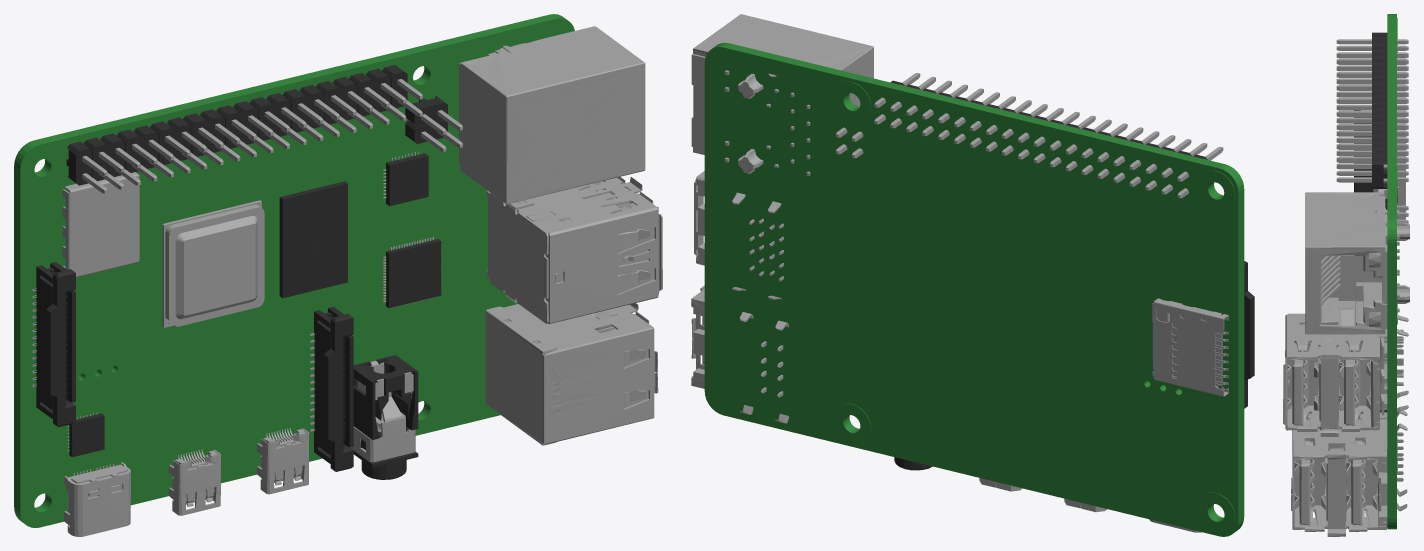
The model's file is raspi.glb.
3 renders of one model, left to right at view 1: azimuth 30°, elevation 25°; view 2: azimuth 150°, elevation 25°; view 3: azimuth 270°, elevation 25°, orthographic. The views are drawn at different scales.
Visible parts, largest first — view 1: PCB, Ethernet Port, USB Port 1, USB Port 2, Pin Header, CPU, 3.5mm Jack, RAM, WiFi Shield, CSI Port, DSI Port, USB Controller (+5 smaller); view 2: PCB, Ethernet Port, Pin Header, SD Slot, USB Port 2, USB Port 1, DSI Port; view 3: Ethernet Port, USB Port 1, USB Port 2, Pin Header, PCB, DSI Port, SD Slot, PoE Header.
Boxes of the visible parts, left/top/right/bottom form: PCB: left=14, top=14, right=574, bottom=527; Ethernet Port: left=459, top=26, right=645, bottom=204; USB Port 1: left=486, top=177, right=662, bottom=324; USB Port 2: left=485, top=303, right=658, bottom=445; Pin Header: left=66, top=65, right=422, bottom=193; CPU: left=162, top=200, right=264, bottom=327; 3.5mm Jack: left=351, top=355, right=418, bottom=479; RAM: left=279, top=181, right=347, bottom=298; WiFi Shield: left=62, top=172, right=139, bottom=277; CSI Port: left=309, top=306, right=353, bottom=471; DSI Port: left=32, top=262, right=75, bottom=427; USB Controller: left=383, top=151, right=441, bottom=308; PCB: left=704, top=42, right=1244, bottom=536; Ethernet Port: left=691, top=14, right=873, bottom=175; Pin Header: left=874, top=73, right=1223, bottom=198; SD Slot: left=1152, top=298, right=1228, bottom=396; USB Port 2: left=691, top=285, right=788, bottom=423; USB Port 1: left=694, top=171, right=783, bottom=299; DSI Port: left=1244, top=261, right=1254, bottom=408; Ethernet Port: left=1305, top=192, right=1409, bottom=334; USB Port 1: left=1283, top=313, right=1408, bottom=436; USB Port 2: left=1291, top=410, right=1407, bottom=536; Pin Header: left=1336, top=32, right=1408, bottom=188; PCB: left=1387, top=14, right=1397, bottom=529; DSI Port: left=1354, top=110, right=1373, bottom=192; SD Slot: left=1397, top=136, right=1405, bottom=219; PoE Header: left=1385, top=199, right=1408, bottom=223.
Bounding box in the file's own units: 89.07 × 58.45 × 20.82.
